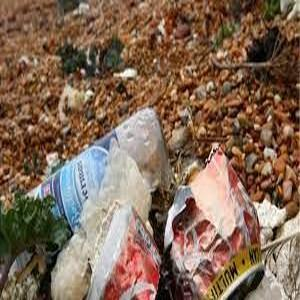Plastic: (24, 105, 166, 230)
